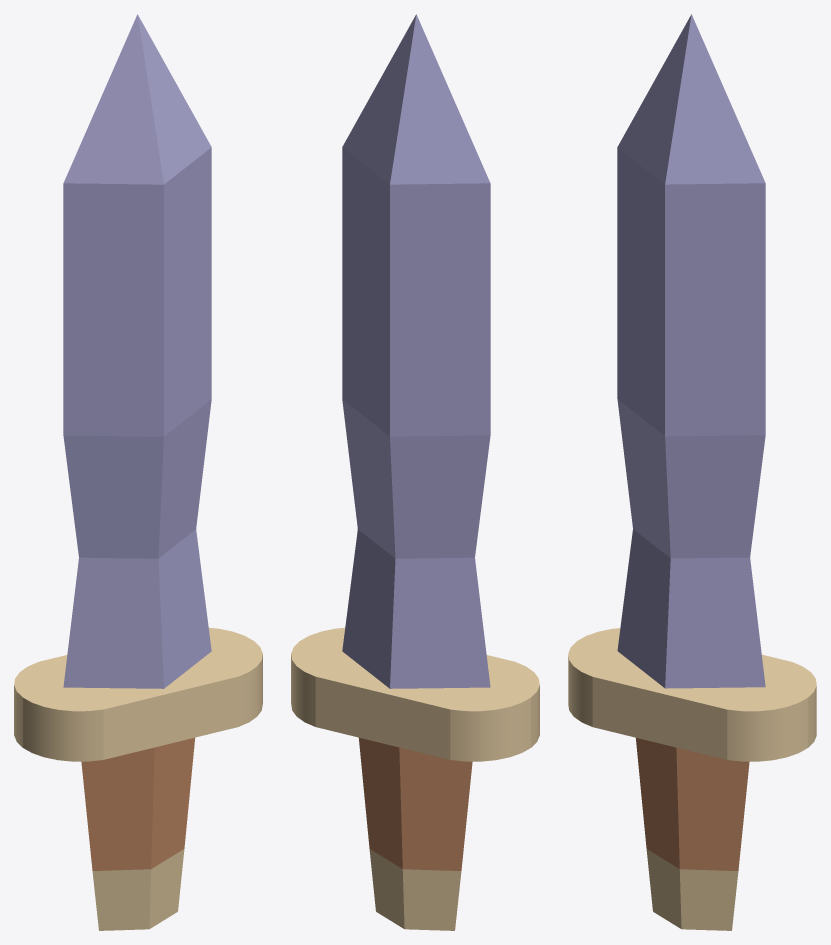
The model's file is TrainingShortsword.fbx.
3 renders of one model, left to right at view 1: azimuth 30°, elevation 25°; view 2: azimuth 150°, elevation 25°; view 3: azimuth 330°, elevation 25°, orthographic.
Visible parts, largest first — view 1: mergedBlocks; view 2: mergedBlocks; view 3: mergedBlocks.
Part boxes in pixels (x1,y1,x2,y2): mergedBlocks: [14, 14, 262, 930]; mergedBlocks: [291, 14, 539, 930]; mergedBlocks: [568, 14, 816, 930].
Bounding box in the file's own units: 4.8 × 18 × 2.34.
